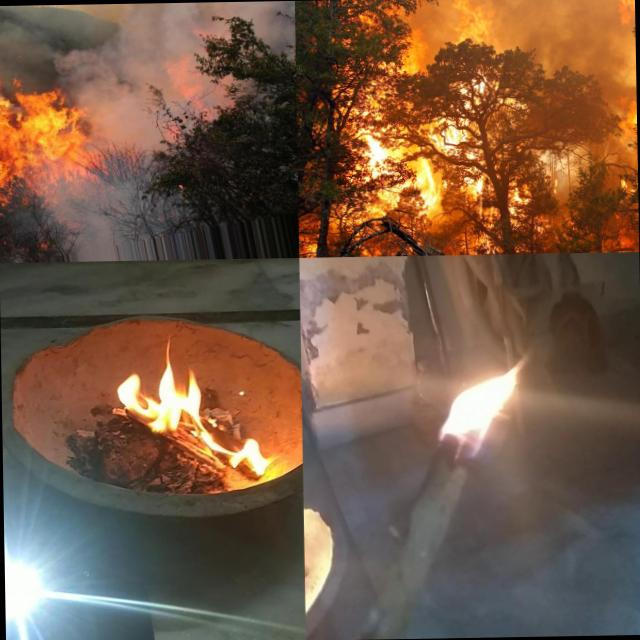fire: (111, 354, 271, 484), (414, 322, 532, 485), (0, 23, 71, 187), (388, 152, 446, 209), (443, 0, 504, 45), (395, 26, 437, 80), (611, 78, 637, 163)
smoke: (70, 2, 211, 141), (42, 176, 181, 241), (505, 0, 612, 81)
